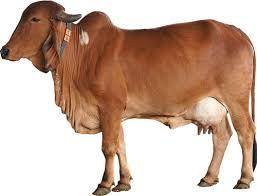cow: (1, 2, 254, 194)
